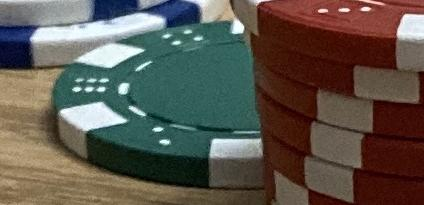Chip: (1, 1, 424, 205)
